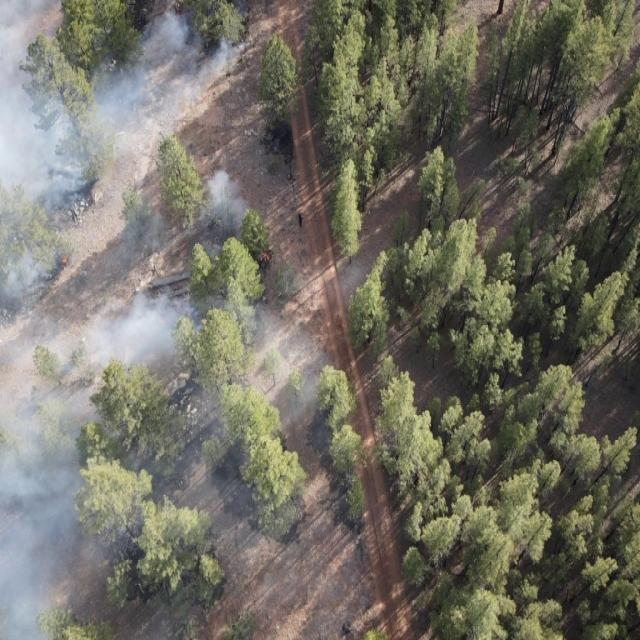fire: (256, 248, 276, 268), (56, 251, 72, 271), (174, 10, 180, 19)
smoke: (2, 372, 282, 640), (0, 0, 252, 238), (2, 236, 282, 370), (274, 323, 334, 422), (334, 243, 369, 299)
